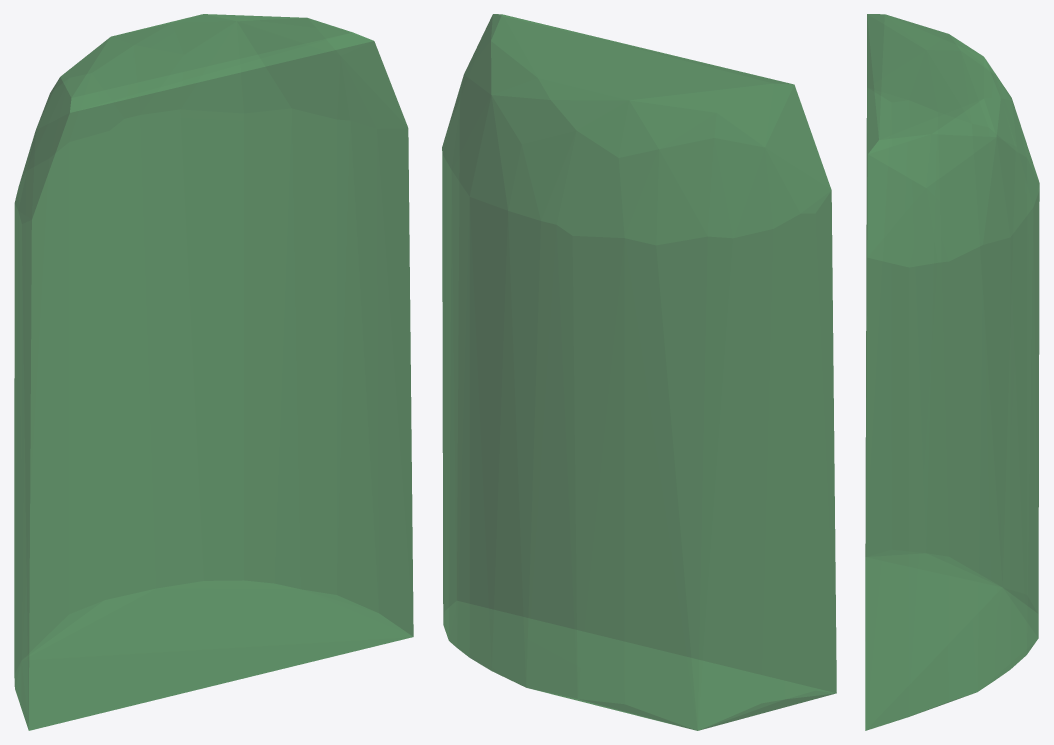
The picture shows the model from 3 angles, left to right: view 1: azimuth 30°, elevation 25°; view 2: azimuth 150°, elevation 25°; view 3: azimuth 270°, elevation 25°; orthographic projection. The views are drawn at different scales.
Parts seen in each view (by area): view 1: Shape_IndexedFaceSet.003_Shape_IndexedFaceSet.1754; view 2: Shape_IndexedFaceSet.003_Shape_IndexedFaceSet.1754; view 3: Shape_IndexedFaceSet.003_Shape_IndexedFaceSet.1754.
Part boxes in pixels (x1,y1,x2,y2): Shape_IndexedFaceSet.003_Shape_IndexedFaceSet.1754: (14, 14, 413, 730); Shape_IndexedFaceSet.003_Shape_IndexedFaceSet.1754: (442, 14, 836, 730); Shape_IndexedFaceSet.003_Shape_IndexedFaceSet.1754: (865, 14, 1039, 730).
Size of the model in its own units: 0.2486 by 0.3781 by 0.1052.
